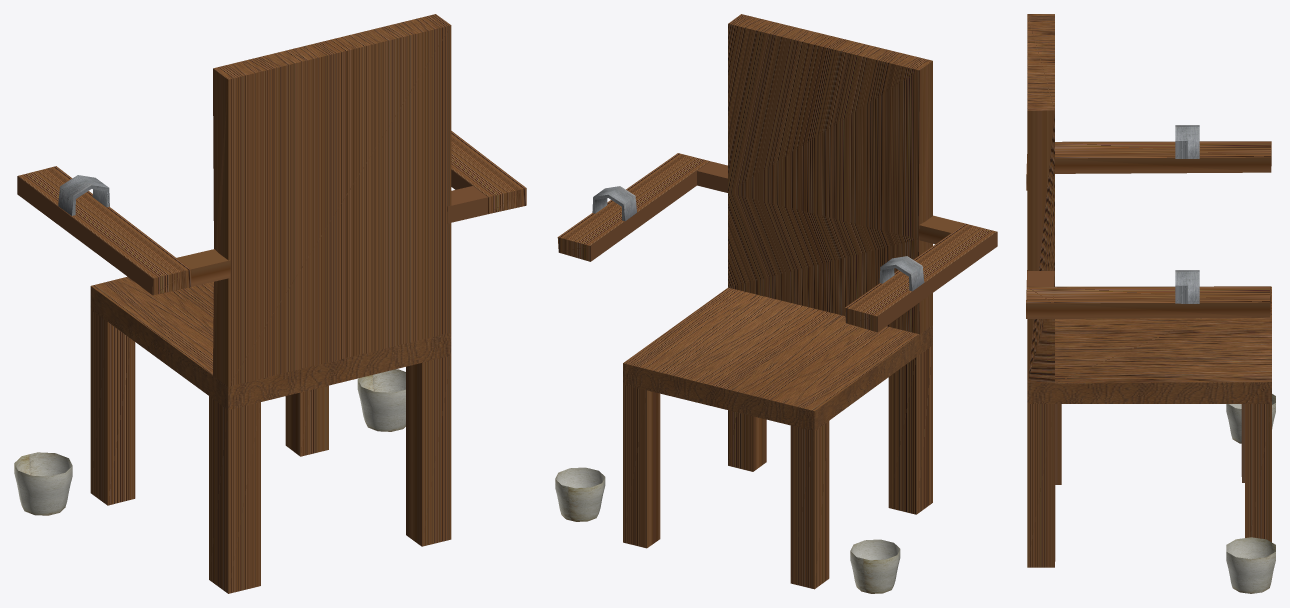
The model's file is BloodChair.FBX.
3 renders of one model, left to right at view 1: azimuth 30°, elevation 25°; view 2: azimuth 150°, elevation 25°; view 3: azimuth 270°, elevation 25°, orthographic. The views are drawn at different scales.
Parts seen in each view (by area): view 1: Object001, Cups, Cuffs; view 2: Object001, Cups, Cuffs; view 3: Object001, Cups, Cuffs.
Part boxes in pixels (x1=…): Object001: x1=17, y1=14, x2=526, y2=593; Cups: x1=14, y1=369, x2=405, y2=515; Cuffs: x1=58, y1=175, x2=109, y2=215; Object001: x1=557, y1=14, x2=997, y2=589; Cups: x1=555, y1=467, x2=900, y2=593; Cuffs: x1=592, y1=186, x2=924, y2=291; Object001: x1=1026, y1=14, x2=1271, y2=567; Cups: x1=1226, y1=394, x2=1275, y2=593; Cuffs: x1=1175, y1=125, x2=1199, y2=303.
Bounding box in the file's own units: 35.33 × 44.05 × 21.84.
3 materials, 3 textured.
